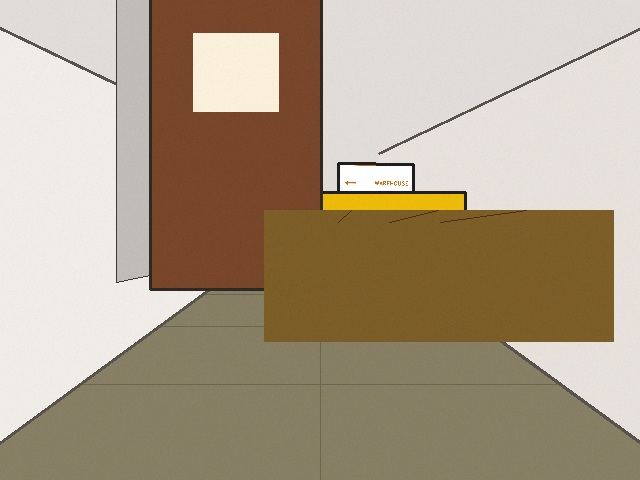directional_sign: (338, 163, 413, 202)
door: (150, 0, 321, 289)
forklift: (319, 192, 465, 276)
pallet: (264, 210, 613, 341)
